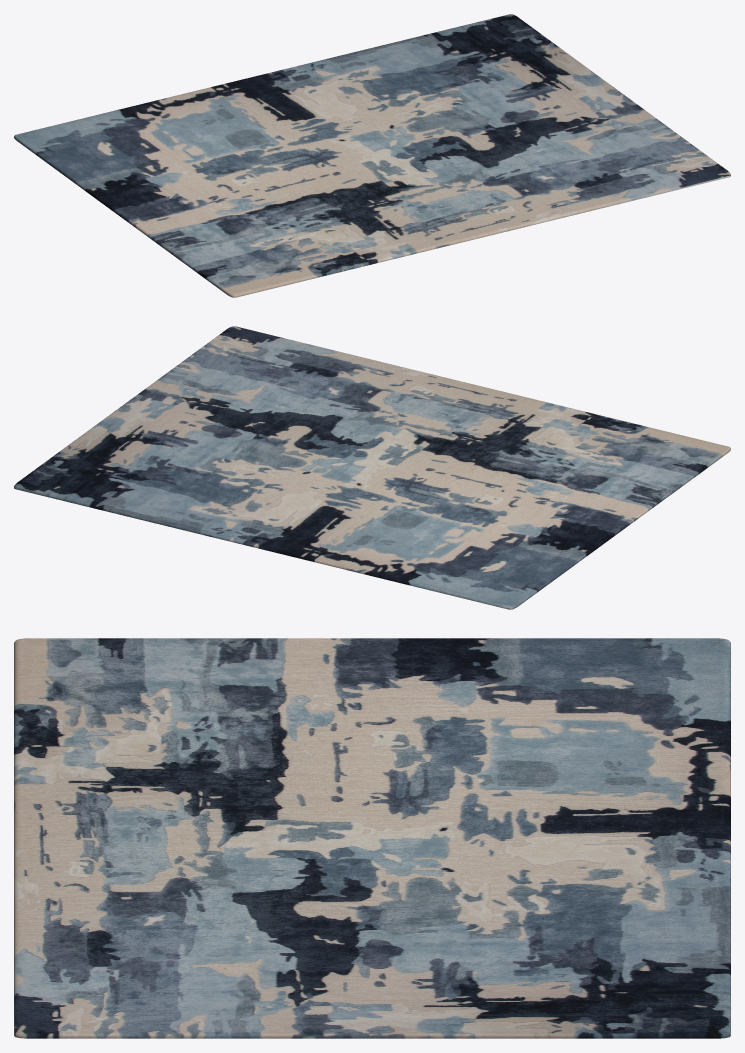
Rendered from Rug_New_Basefile.glb.
The picture shows the model from 3 angles, top to bottom: view 1: azimuth 30°, elevation 25°; view 2: azimuth 150°, elevation 25°; view 3: azimuth 270°, elevation 25°; orthographic projection. The views are drawn at different scales.
Visible parts, largest first — view 1: Box002; view 2: Box002; view 3: Box002.
Boxes of the visible parts, x1,y1,x2,y2 form: Box002: (14,14,730,297); Box002: (14,326,730,609); Box002: (14,638,730,1038).
Bounding box in the file's own units: 3.96 × 0.0181 × 3.02.
Materials: 1 (1 with a texture image).
